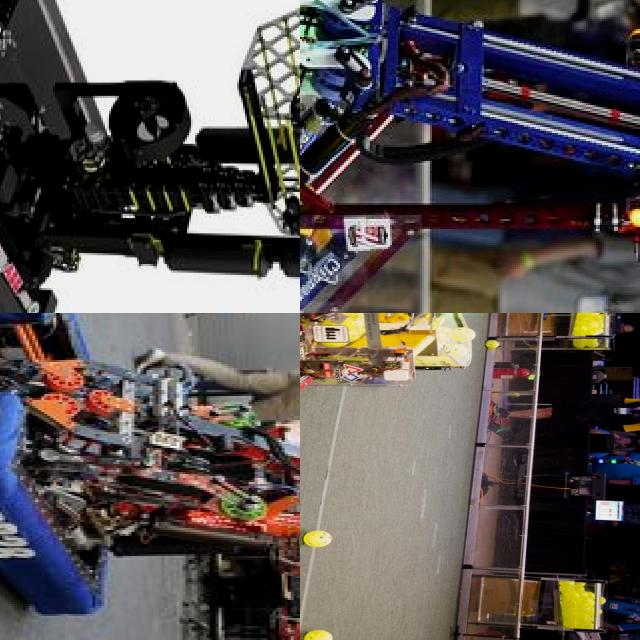FRC-Robots: (300, 0, 640, 313), (0, 313, 300, 640), (0, 0, 300, 313), (300, 313, 480, 407)
